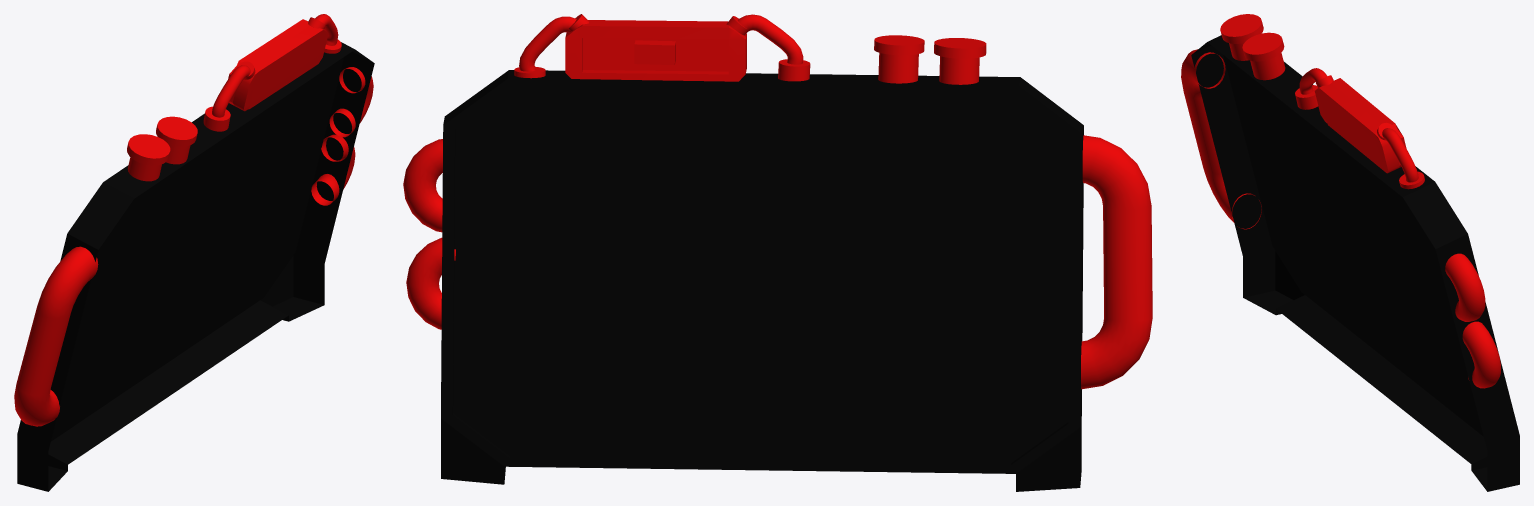
File: Even Newer Single Monitor.fbx
The picture shows the model from 3 angles, left to right: view 1: azimuth 30°, elevation 25°; view 2: azimuth 150°, elevation 25°; view 3: azimuth 270°, elevation 25°; orthographic projection. The views are drawn at different scales.
Parts seen in each view (by area): view 1: Monitors_for_Bunker__1_:Screen_low_n3d, Handle, pannel_1, Knob_2, Knob_1, wire_5, wire_2, wire1, plugin2; view 2: Monitors_for_Bunker__1_:Screen_low_n3d, Handle, pannel_1, wire_2, wire_5, Knob_1, Knob_2, wire1, wire, pCube1; view 3: Monitors_for_Bunker__1_:Screen_low_n3d, pannel_1, Handle, wire_2, wire_5, Knob_1, Knob_2, wire, wire1, plugin2.
Boxes of the visible parts, x1,y1,x2,y2 form: Monitors_for_Bunker__1_:Screen_low_n3d: [17, 42, 374, 491]; Handle: [14, 246, 98, 426]; pannel_1: [228, 19, 328, 111]; Knob_2: [127, 134, 170, 181]; Knob_1: [156, 116, 197, 164]; wire_5: [311, 134, 355, 205]; wire_2: [329, 67, 373, 137]; wire1: [212, 65, 250, 117]; plugin2: [203, 106, 230, 131]; Monitors_for_Bunker__1_:Screen_low_n3d: [441, 70, 1083, 491]; Handle: [1081, 135, 1152, 389]; pannel_1: [565, 20, 746, 81]; wire_2: [403, 139, 442, 232]; wire_5: [406, 237, 455, 329]; Knob_1: [874, 35, 924, 83]; Knob_2: [934, 38, 986, 84]; wire1: [738, 14, 803, 64]; wire: [519, 16, 576, 71]; pCube1: [634, 40, 675, 65]; Monitors_for_Bunker__1_:Screen_low_n3d: [1191, 35, 1519, 491]; pannel_1: [1314, 78, 1406, 173]; Handle: [1181, 49, 1261, 229]; wire_2: [1445, 253, 1485, 321]; wire_5: [1462, 321, 1500, 388]; Knob_1: [1242, 32, 1285, 80]; Knob_2: [1220, 14, 1263, 60]; wire: [1382, 128, 1418, 182]; wire1: [1299, 68, 1327, 94]; plugin2: [1295, 85, 1318, 109].
Size of the model in its own units: 105 by 71.12 by 64.15.
